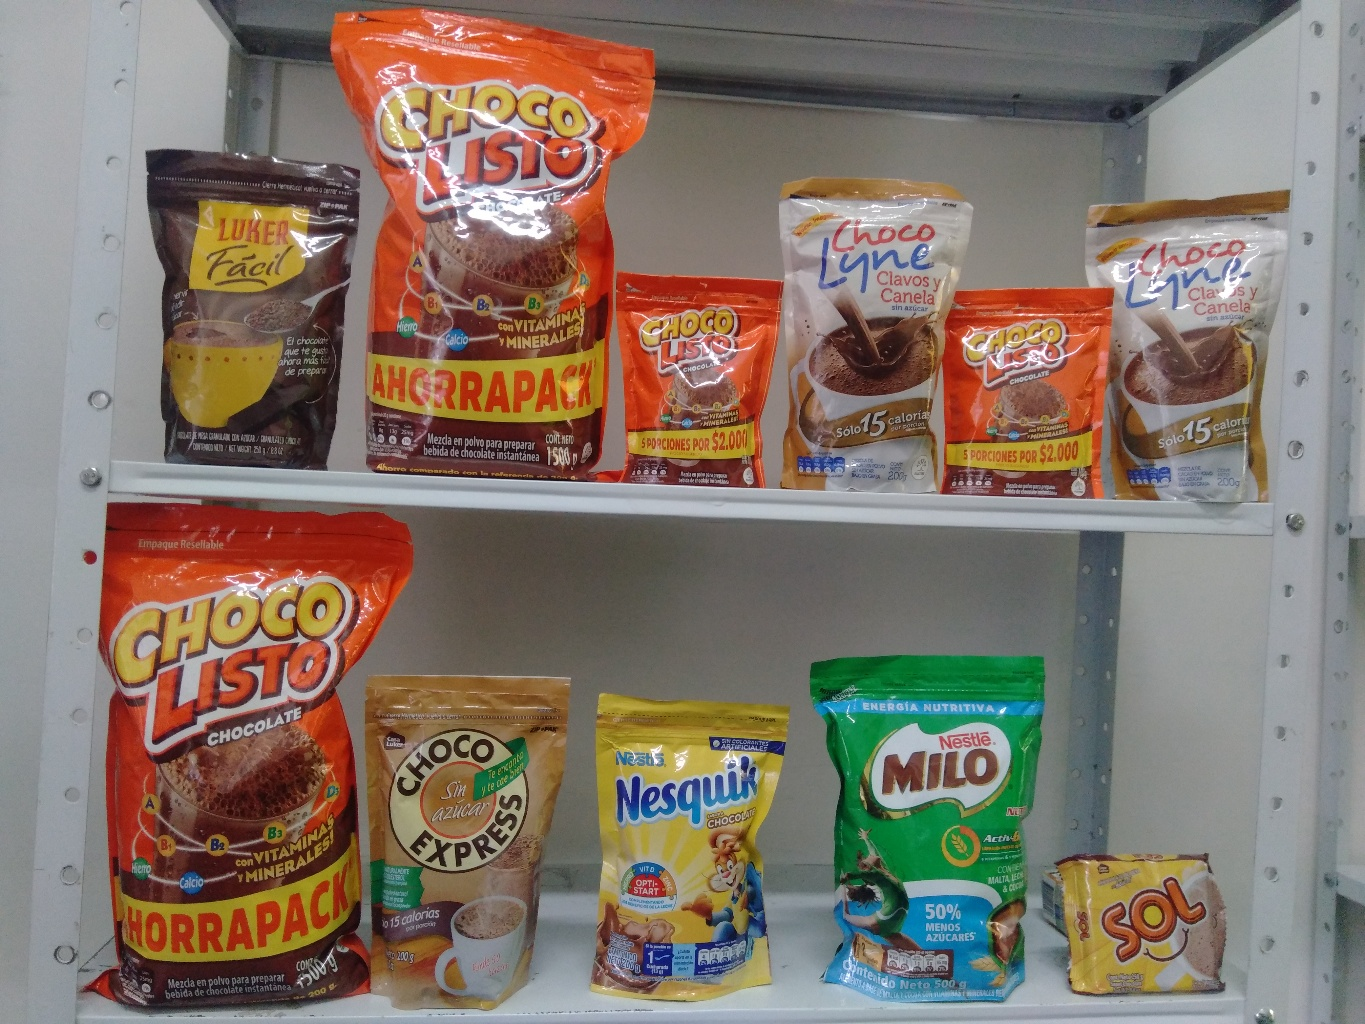COL0170303DYP20000: (578, 695, 799, 1005)
